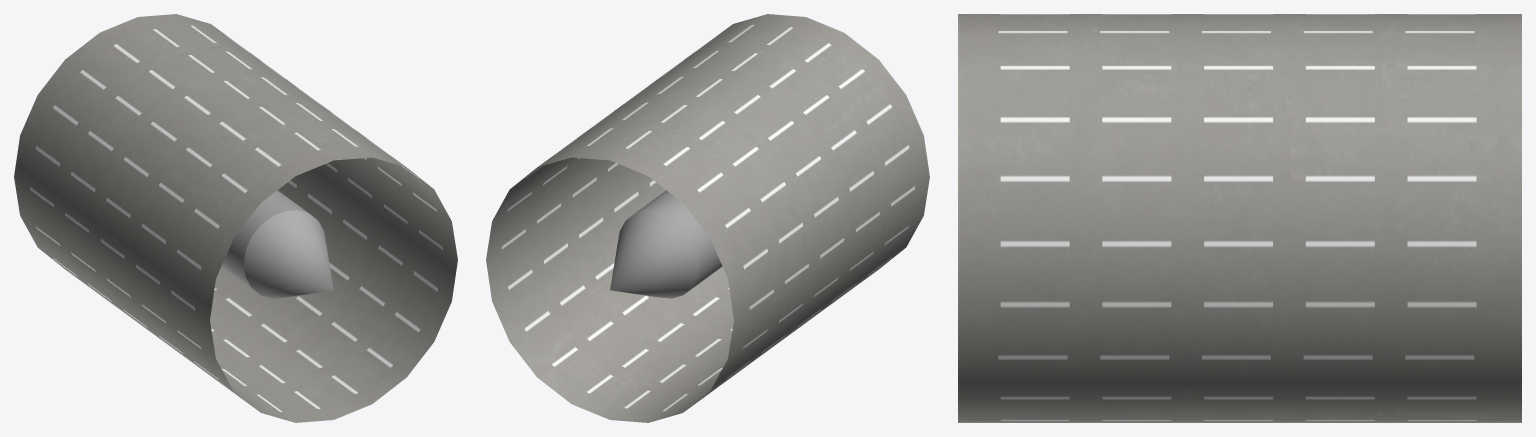
File: s01_straight_bb.fbx
3 renders of one model, left to right at view 1: azimuth 30°, elevation 25°; view 2: azimuth 150°, elevation 25°; view 3: azimuth 270°, elevation 25°, orthographic. The views are drawn at different scales.
Parts seen in each view (by area): view 1: VM; view 2: VM; view 3: VM.
Boxes of the visible parts, bbox=[...] form: VM: bbox=[14, 14, 457, 422]; VM: bbox=[486, 14, 929, 422]; VM: bbox=[958, 14, 1521, 422].
Bounding box in the file's own units: 228 × 228 × 312.
